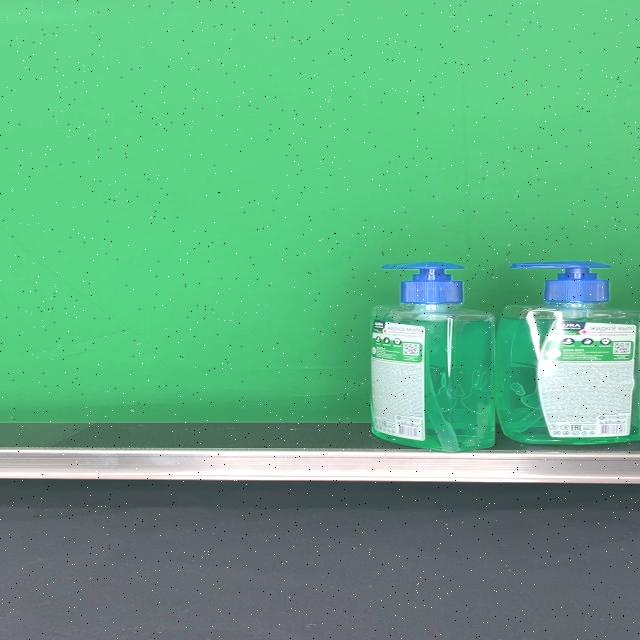Bottle: (498, 261, 640, 445), (370, 261, 496, 452)
Cap: (510, 262, 610, 304), (381, 262, 463, 303)
